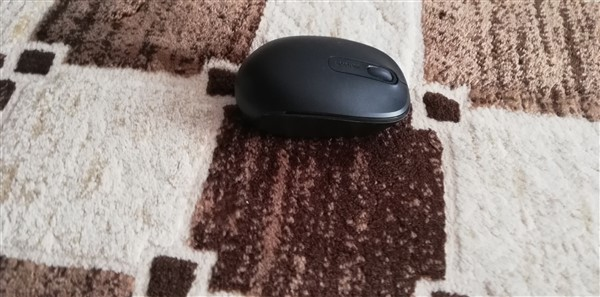mouse: (229, 30, 422, 144)
